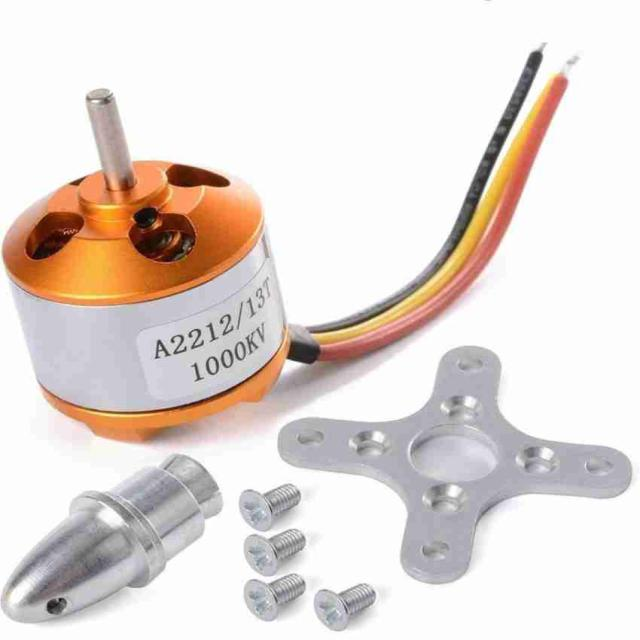motor: (1, 93, 290, 439)
